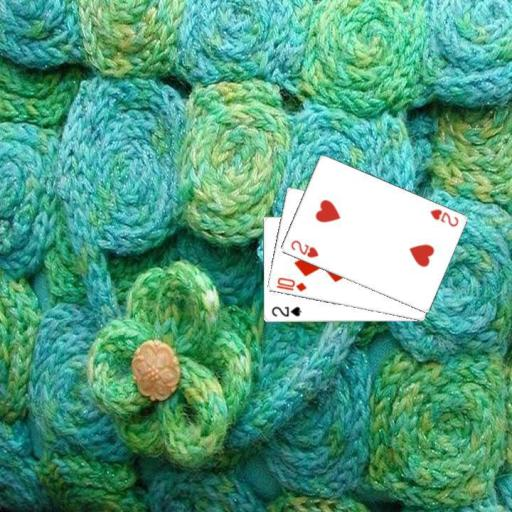10D: (273, 274, 308, 293)
2H: (287, 237, 320, 260), (427, 206, 459, 228)
2S: (268, 304, 303, 319)
